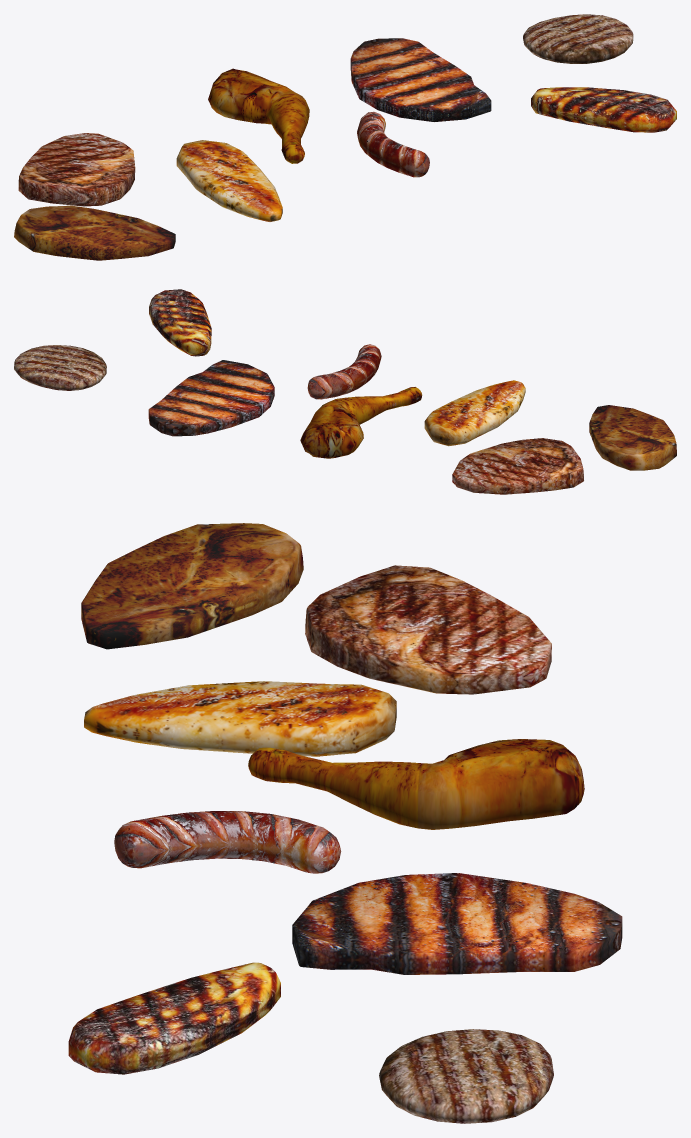
File: GardenFoodGrilled01_1.FBX
3 renders of one model, top to bottom at view 1: azimuth 30°, elevation 25°; view 2: azimuth 150°, elevation 25°; view 3: azimuth 270°, elevation 25°, orthographic. The views are drawn at different scales.
Parts seen in each view (by area): view 1: GardenFoodGrilled01_1; view 2: GardenFoodGrilled01_1; view 3: GardenFoodGrilled01_1.
Part boxes in pixels (x1,y1,x2,y2): GardenFoodGrilled01_1: (14,14,676,260); GardenFoodGrilled01_1: (14,289,676,494); GardenFoodGrilled01_1: (68,523,622,1123).
Size of what is drawn, in the model's own units: 0.7429 by 0.0369 by 0.3014.
